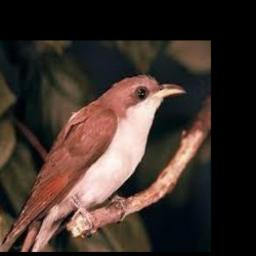Cuckoo: (1, 74, 186, 245)
